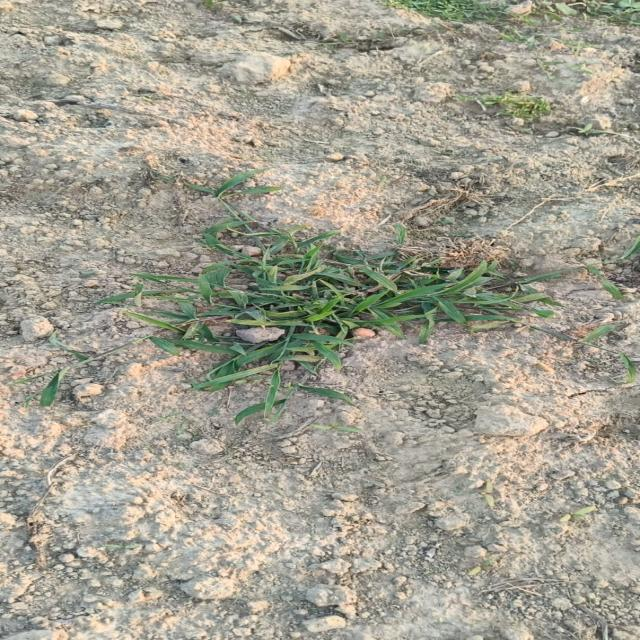plant: (101, 170, 557, 422)
